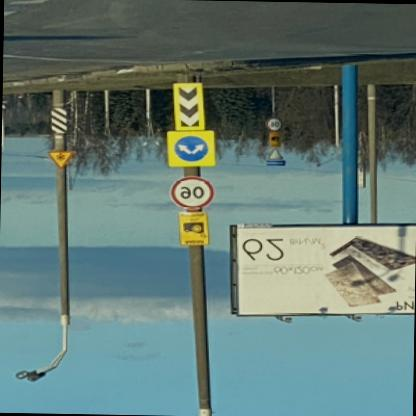speedlimit: (168, 175, 212, 210), (264, 117, 280, 131)
